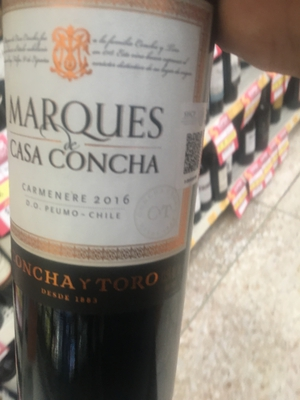marques de casa concha carmenere: (2, 1, 222, 400)
